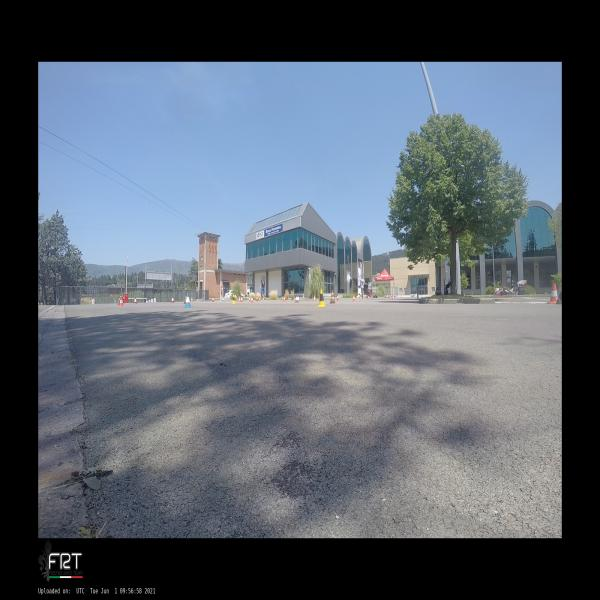blue_cone: (183, 293, 193, 307)
large_orange_cone: (329, 290, 336, 303)
orange_cone: (548, 283, 558, 304), (118, 296, 125, 306), (249, 295, 254, 303), (312, 294, 316, 301), (352, 294, 355, 302), (295, 296, 299, 302), (238, 296, 241, 302)
unknown_cone: (556, 288, 562, 304)
yellow_cone: (318, 290, 326, 306), (231, 294, 236, 304)
